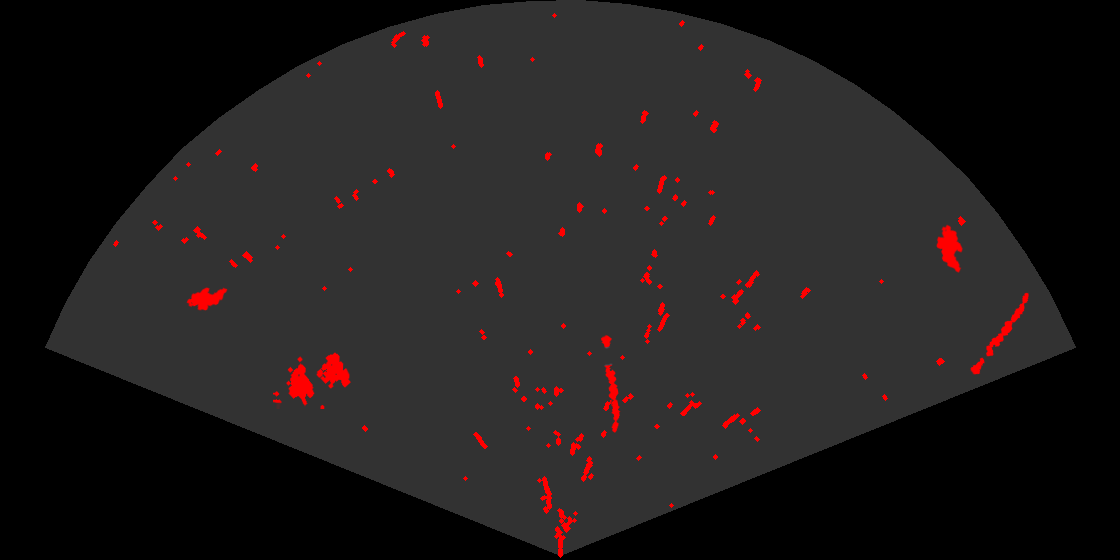AUV: (935, 223, 964, 274), (185, 286, 229, 312)
cage: (273, 351, 352, 409)
chain: (969, 291, 1030, 376), (599, 333, 622, 434)
